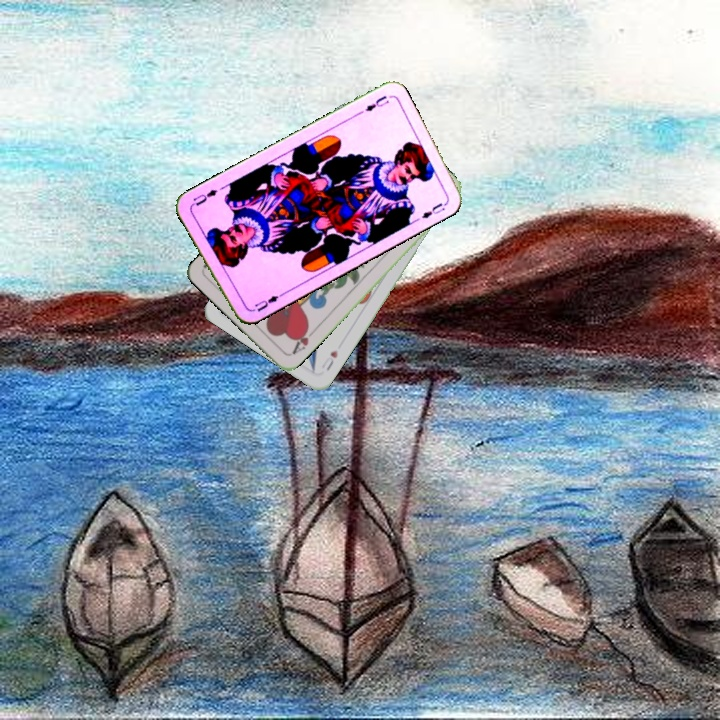EU: (247, 289, 285, 314), (361, 91, 392, 114)
HA: (287, 322, 319, 357)
HU: (317, 346, 341, 373)
